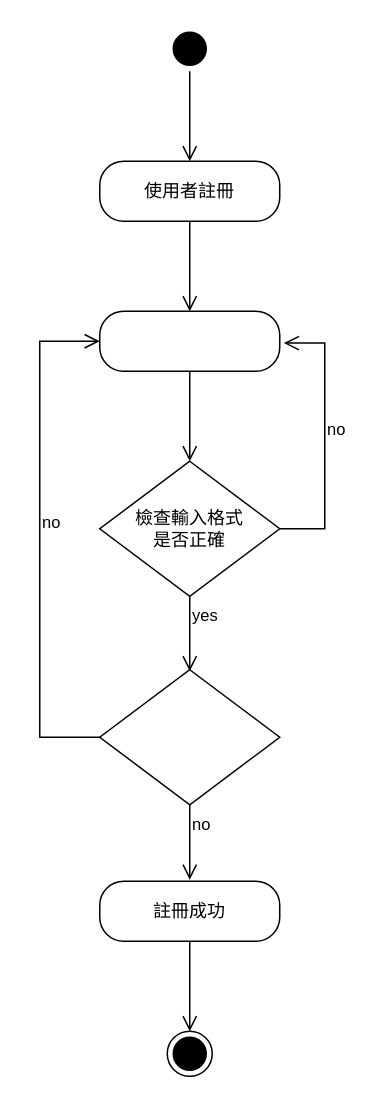
Some shapes in this 372 by 1103 pixel diagram are drawn without their labels. The shapes that lost their labels are listed below. From the top down, each one's box as (x1, y1, x2, y2) in pixels, then its label:
(98, 310, 280, 371): 使用者填入資料
(98, 668, 280, 805): 檢查Email 是否合法(不重複)
